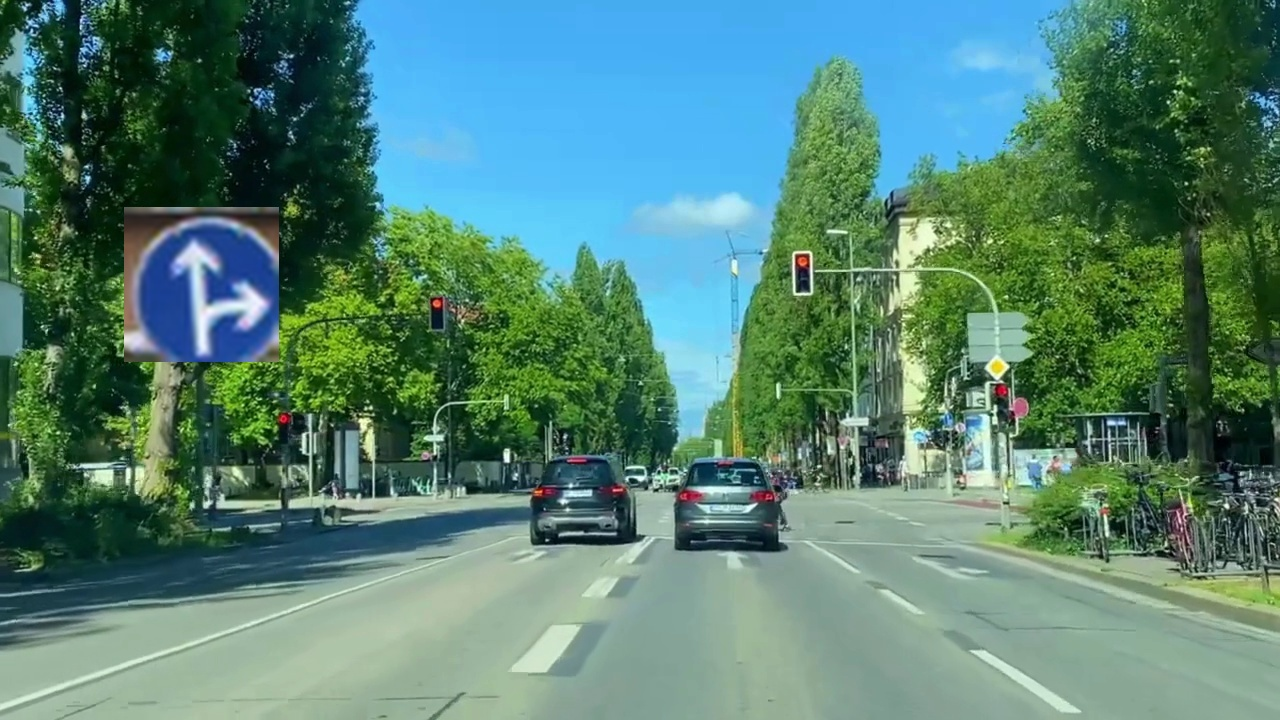Straight/right: (124, 207, 279, 362)
